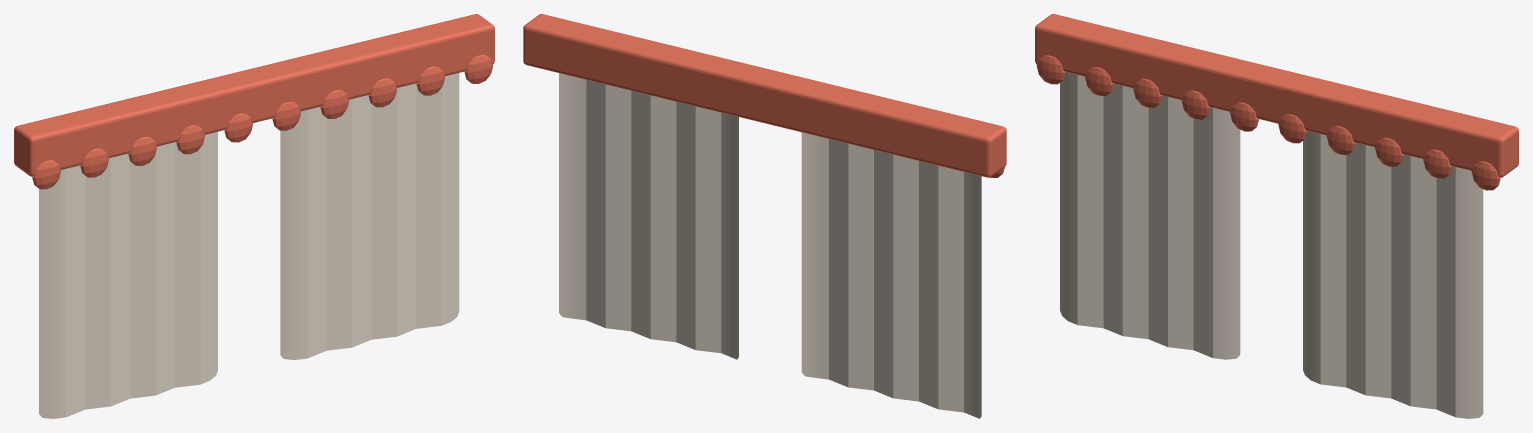
The model's file is curtains_c.glb.
3 renders of one model, left to right at view 1: azimuth 30°, elevation 25°; view 2: azimuth 150°, elevation 25°; view 3: azimuth 330°, elevation 25°, orthographic.
Parts seen in each view (by area): view 1: body; view 2: body; view 3: body.
Part boxes in pixels (bbox=[...]): body: bbox=[14, 14, 494, 418]; body: bbox=[523, 14, 1006, 418]; body: bbox=[1035, 14, 1518, 418].
Size of the model in its own units: 1.94 by 1.16 by 0.143.
